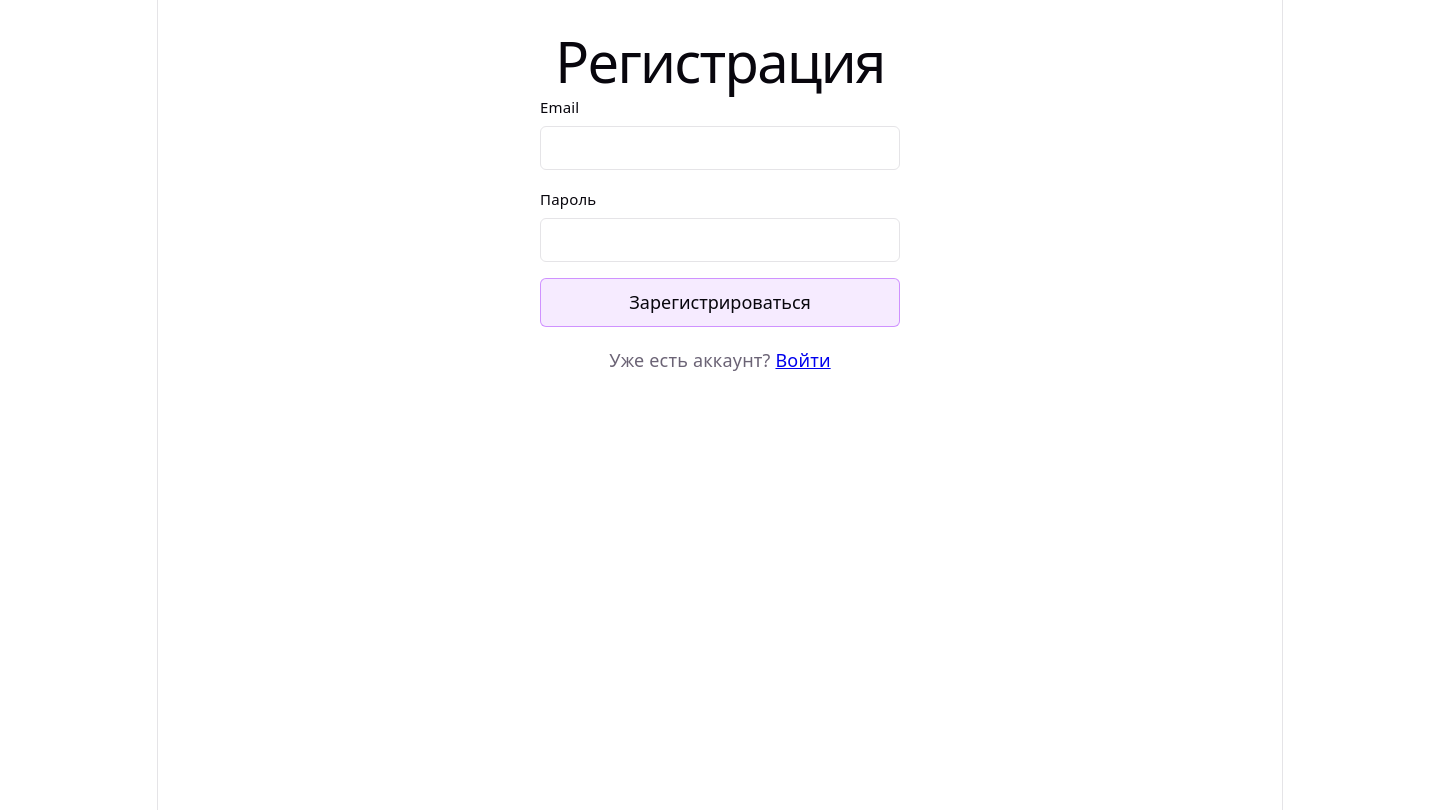
RegisterPage › показывает подтверждение успешной регистрации и не сохраняет токен
The width and height of the screenshot is (1440, 810).
Step 1. Type "user@example.com" into the field labelled "Email" → (720, 148), box [540,126,900,170]
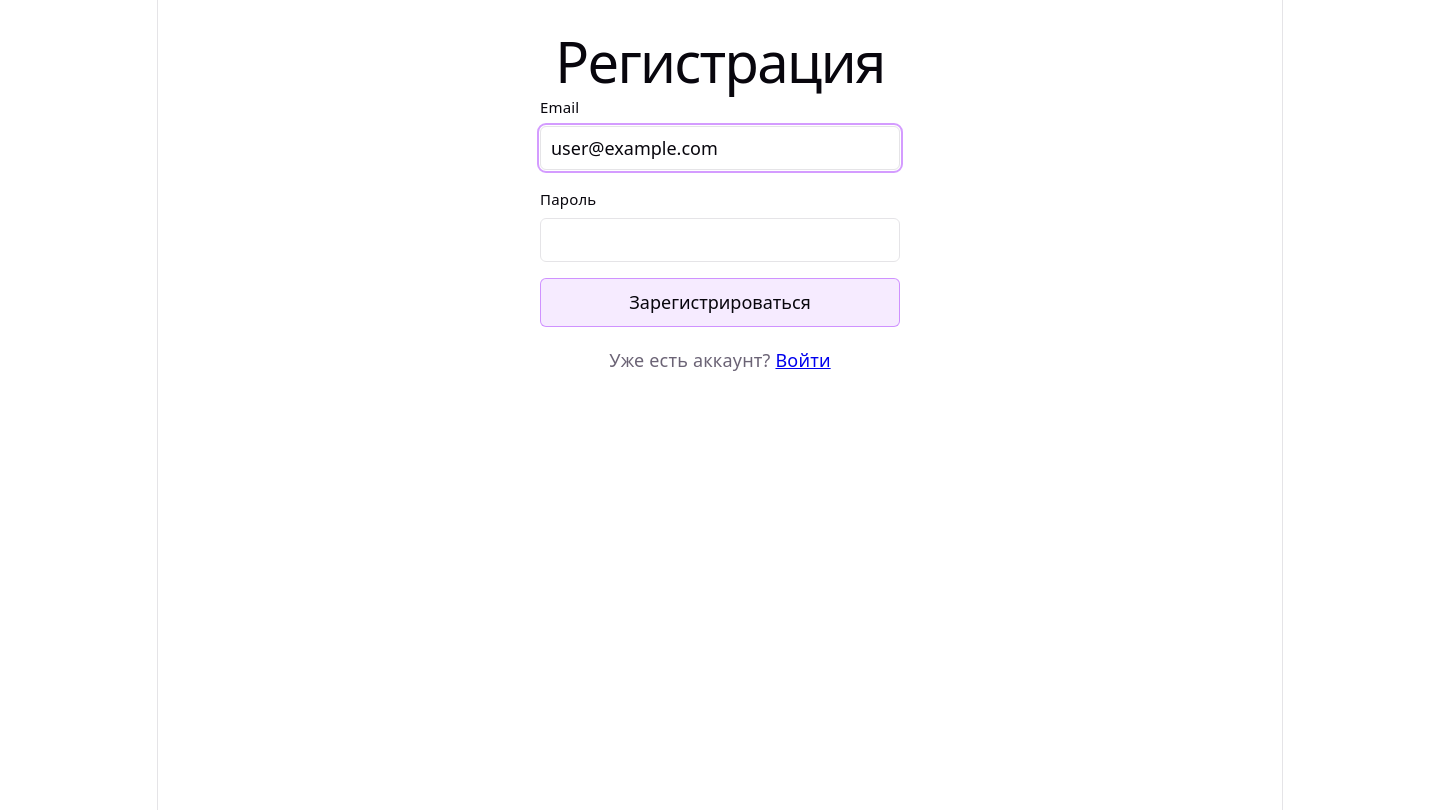
Step 2. Type "secret123" into the password field labelled "Пароль" → (720, 240), box [540,218,900,262]
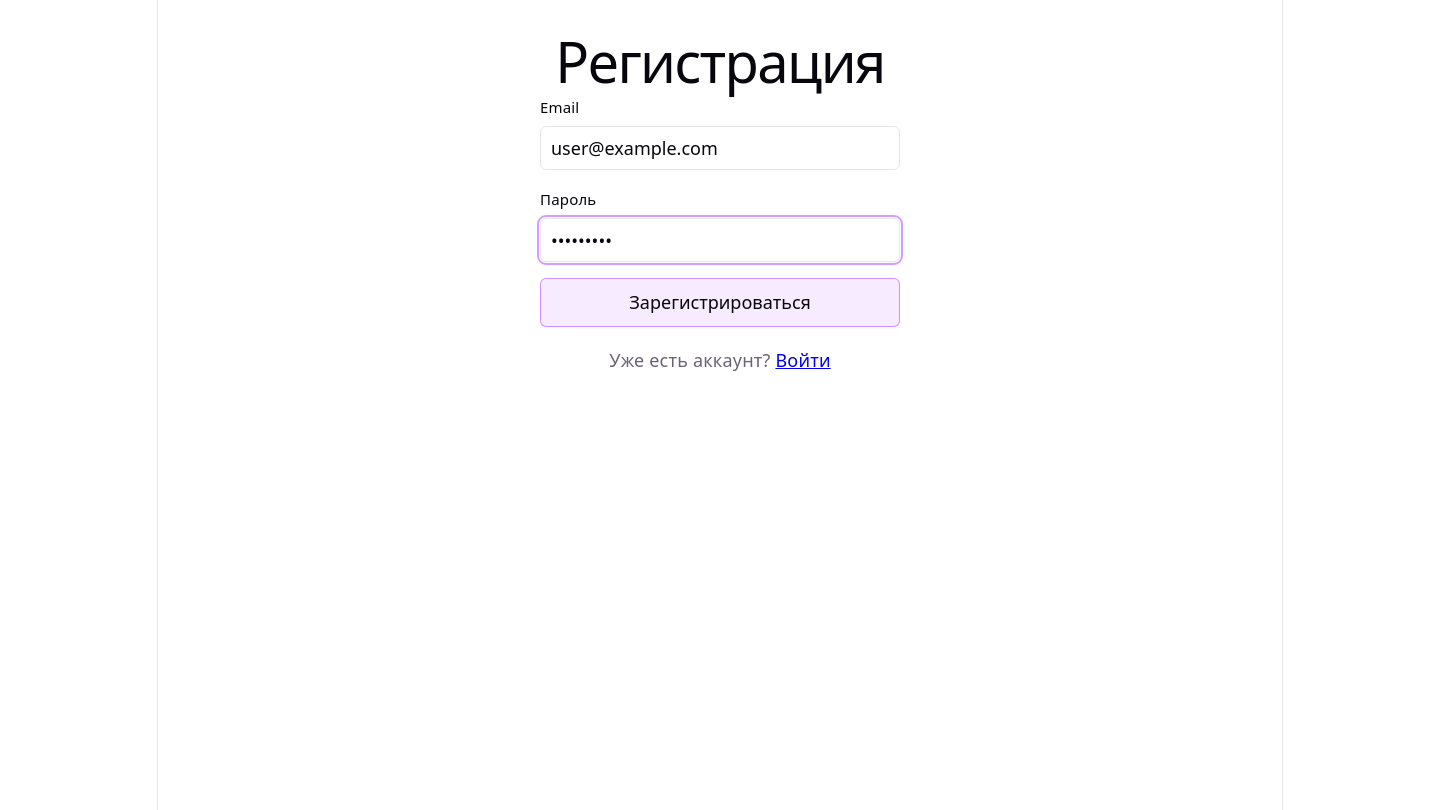
Step 3. Click the button "Зарегистрироваться" → (720, 303), box [540,278,900,327]
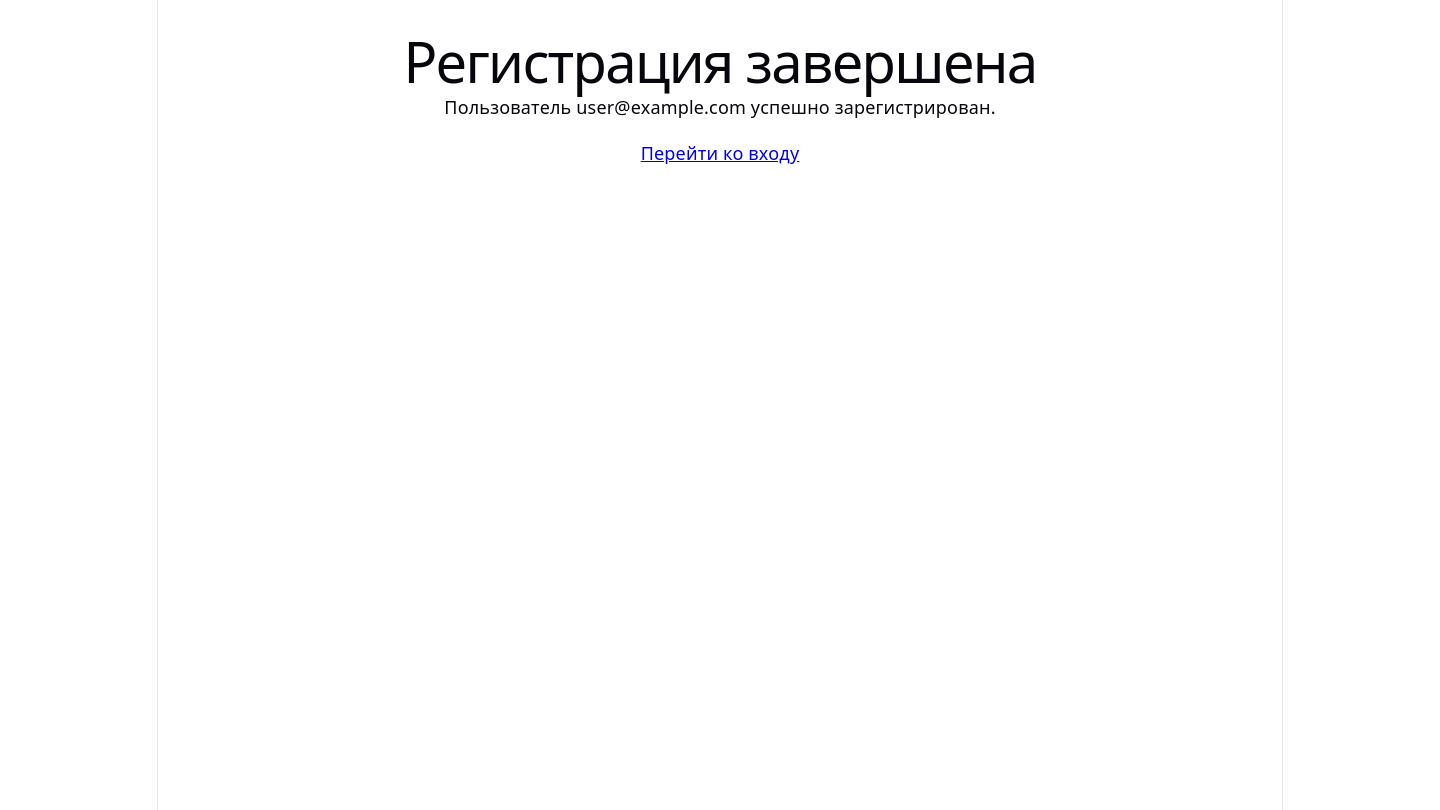
Expected: the message shows "успешно зарегистрирован", [746,95,996,119]
